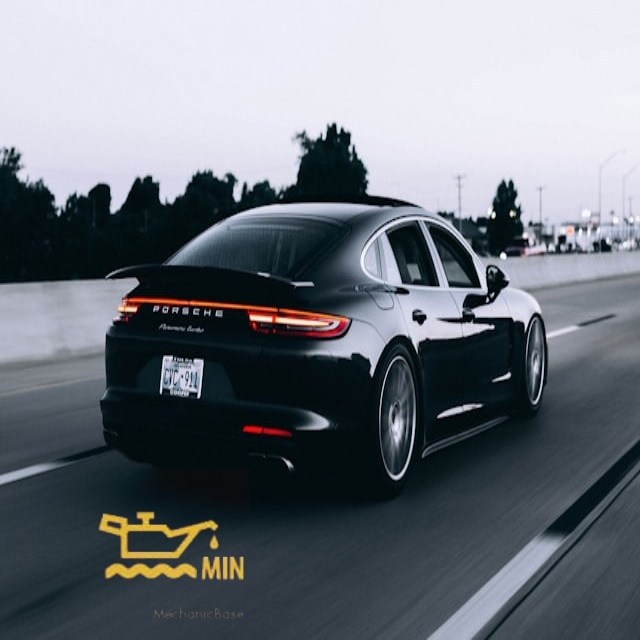symbol: (90, 467, 250, 627)
